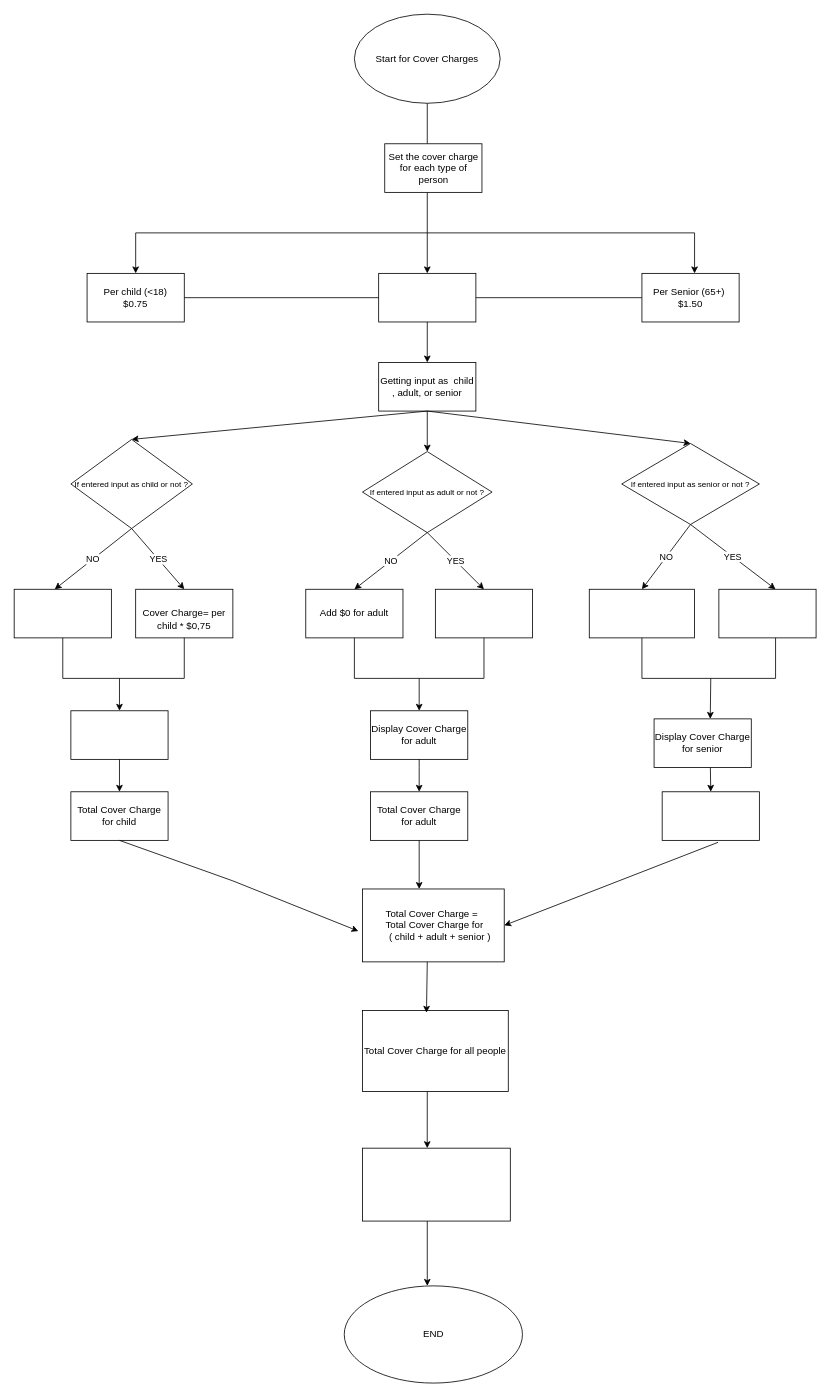
Image size: 830x1397. Some labels were removed from this diagram. The box of each missing label's shape, as (x1, y1, x2, y2) in pixels:
Add $0 for child: (13, 588, 111, 638)
Add $0 for senior: (588, 588, 695, 638)
Cover Charge = per senior * $1.50: (718, 588, 816, 638)
Cover Charge= per adult * $4.00: (435, 588, 533, 638)
Display Total Cover Charge for all people: (362, 1147, 510, 1221)
Dsiplay Cover Charge for child: (70, 710, 168, 759)
Per Adult (18+) $4.00: (378, 273, 476, 322)
Total Cover Charge for senior: (661, 791, 759, 840)
